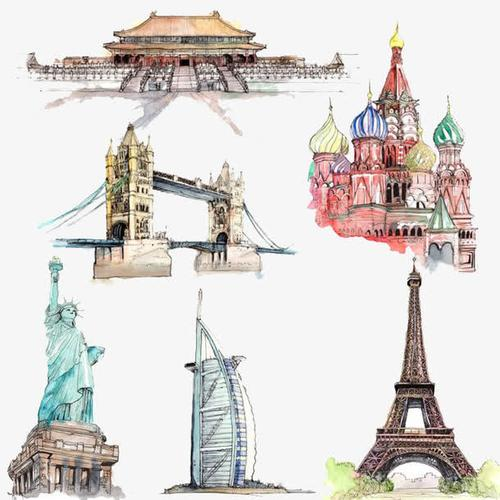buildings: (354, 272, 469, 494), (61, 133, 216, 269), (175, 304, 268, 500)
